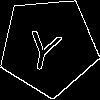Y: (23, 21, 65, 73)
